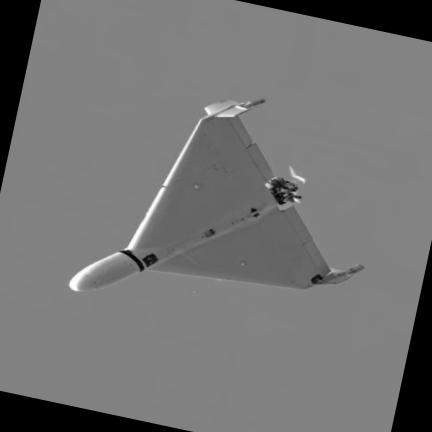Shahed: (69, 98, 363, 292)
